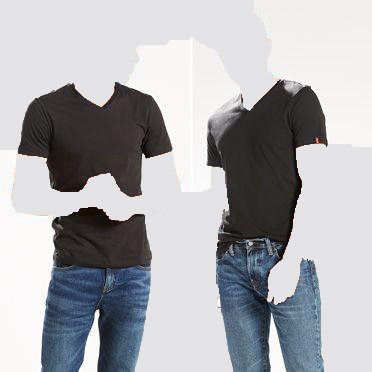teeshirt: (15, 82, 176, 267), (202, 79, 332, 256)
